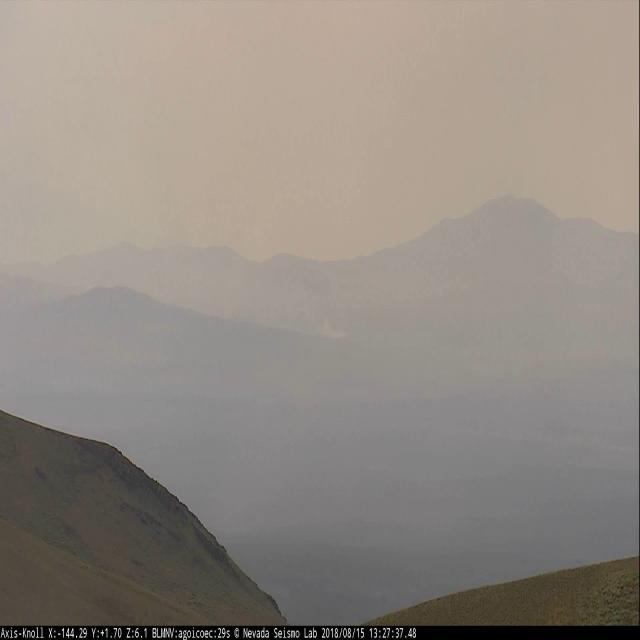smoke: (265, 262, 356, 346)
